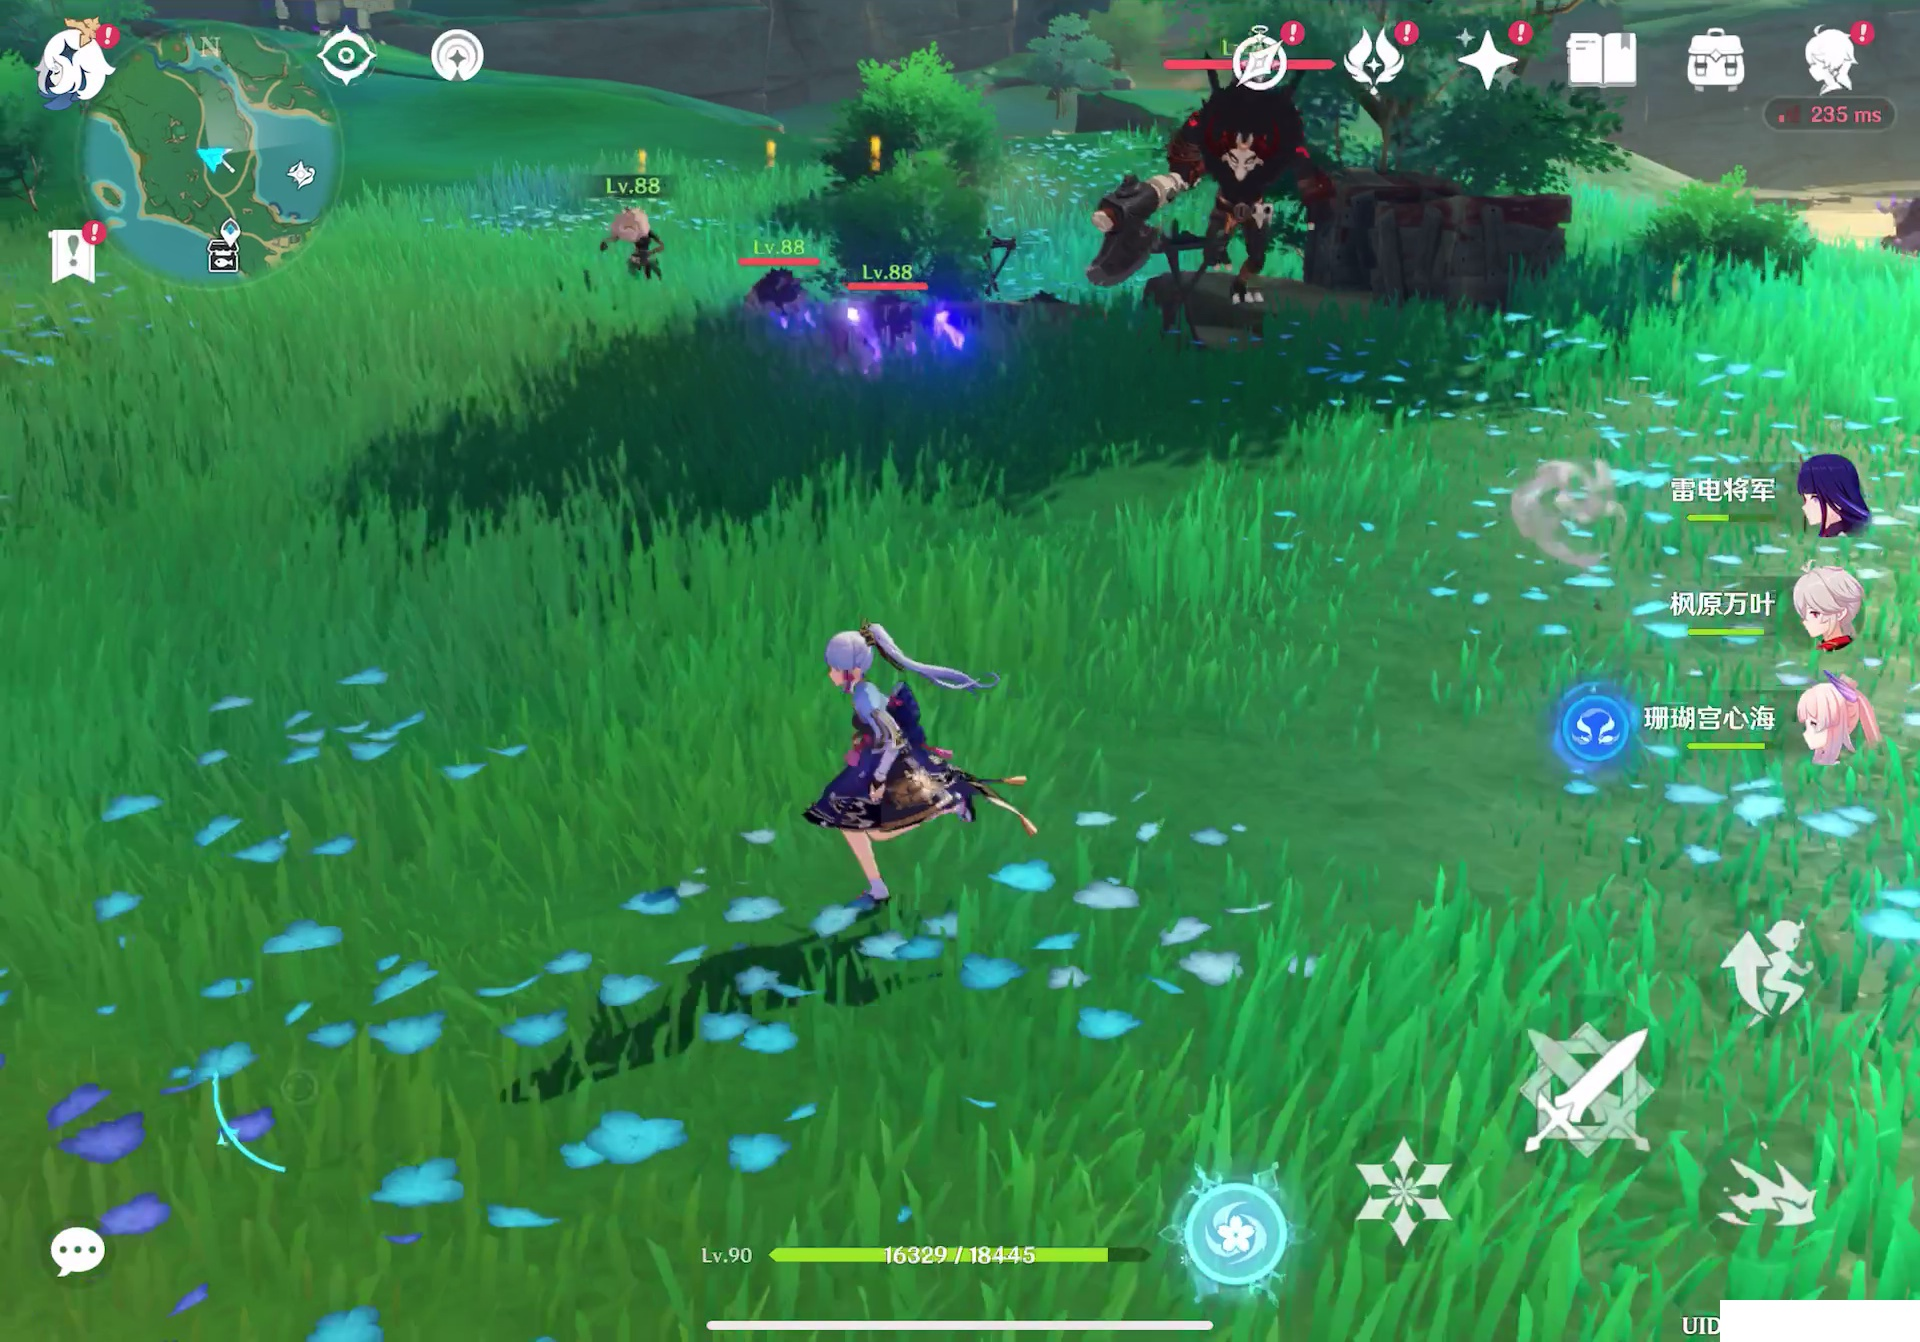NTR: (1137, 76, 1336, 298)
丘丘人: (608, 200, 683, 287), (743, 268, 816, 333)
神里绫龟: (805, 611, 1026, 918)
